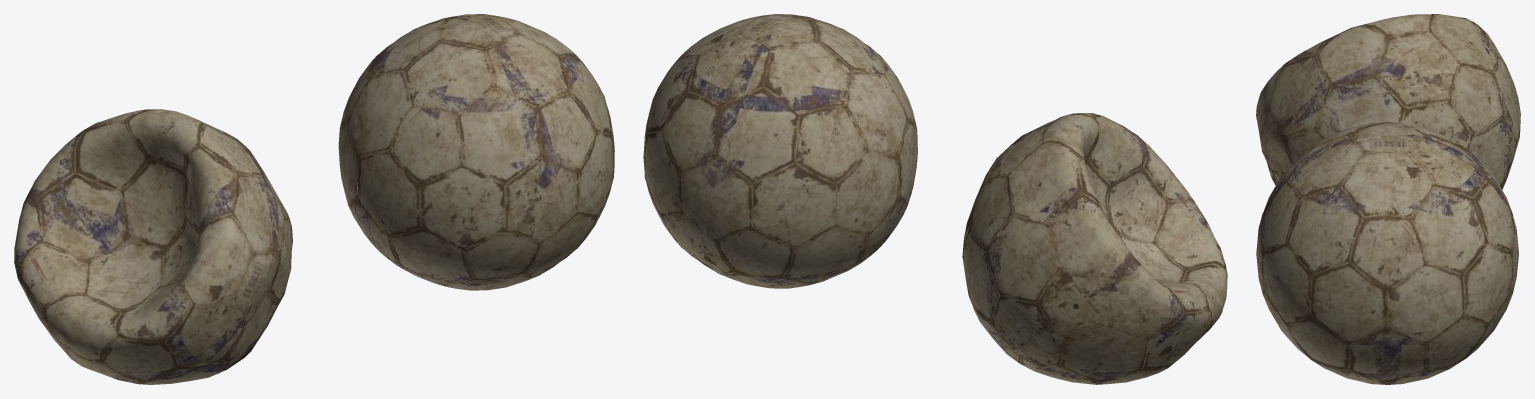
Rendered from football.glb.
The picture shows the model from 3 angles, left to right: view 1: azimuth 30°, elevation 25°; view 2: azimuth 150°, elevation 25°; view 3: azimuth 270°, elevation 25°; orthographic projection. The views are drawn at different scales.
Visible parts, largest first — view 1: football_inflated, football_deflated; view 2: football_inflated, football_deflated; view 3: football_inflated, football_deflated.
Part boxes in pixels (bbox=[...]): football_inflated: bbox=[338, 14, 614, 290]; football_deflated: bbox=[14, 109, 292, 384]; football_inflated: bbox=[643, 14, 917, 288]; football_deflated: bbox=[962, 113, 1227, 384]; football_inflated: bbox=[1256, 122, 1518, 384]; football_deflated: bbox=[1256, 14, 1520, 189].
Bounding box in the file's own units: 0.5087 × 0.2219 × 0.2223.
Materials: 1 (1 with a texture image).
